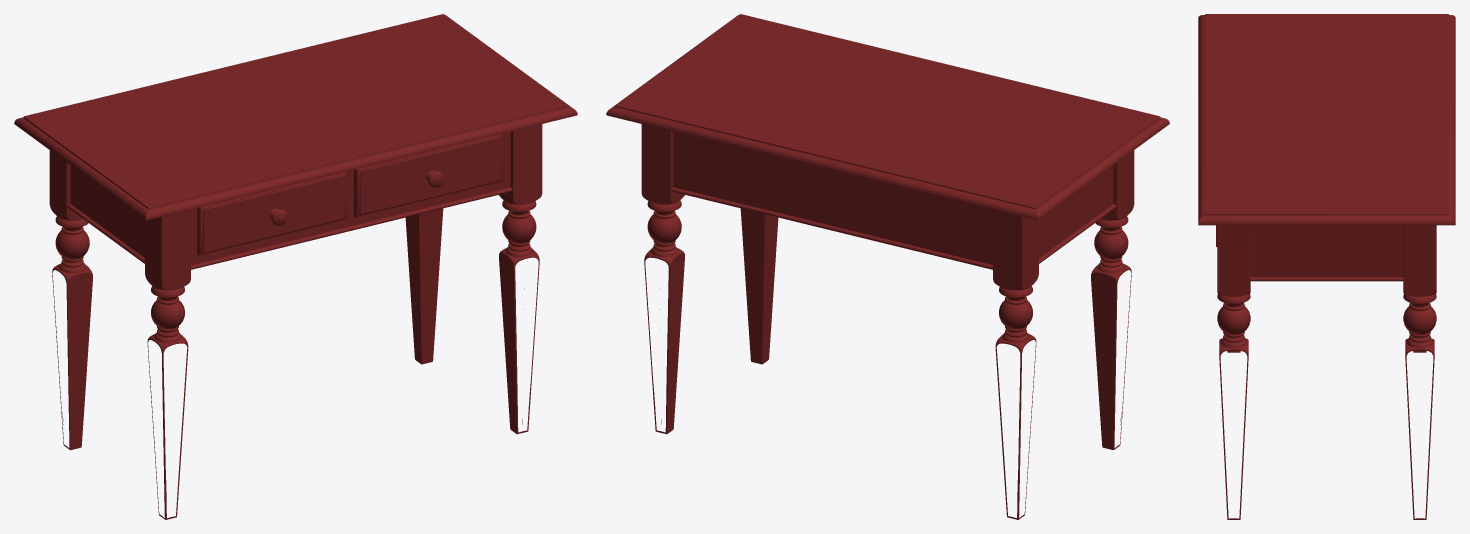
File: Project Name.glb
3 renders of one model, left to right at view 1: azimuth 30°, elevation 25°; view 2: azimuth 150°, elevation 25°; view 3: azimuth 270°, elevation 25°, orthographic. The views are drawn at different scales.
Parts seen in each view (by area): view 1: Side_Table; view 2: Side_Table; view 3: Side_Table.
Boxes of the visible parts, bbox=[...] form: Side_Table: bbox=[14, 14, 577, 519]; Side_Table: bbox=[606, 14, 1169, 519]; Side_Table: bbox=[1198, 14, 1455, 519].
Size of the model in its own units: 0.51 by 0.37 by 0.27.
